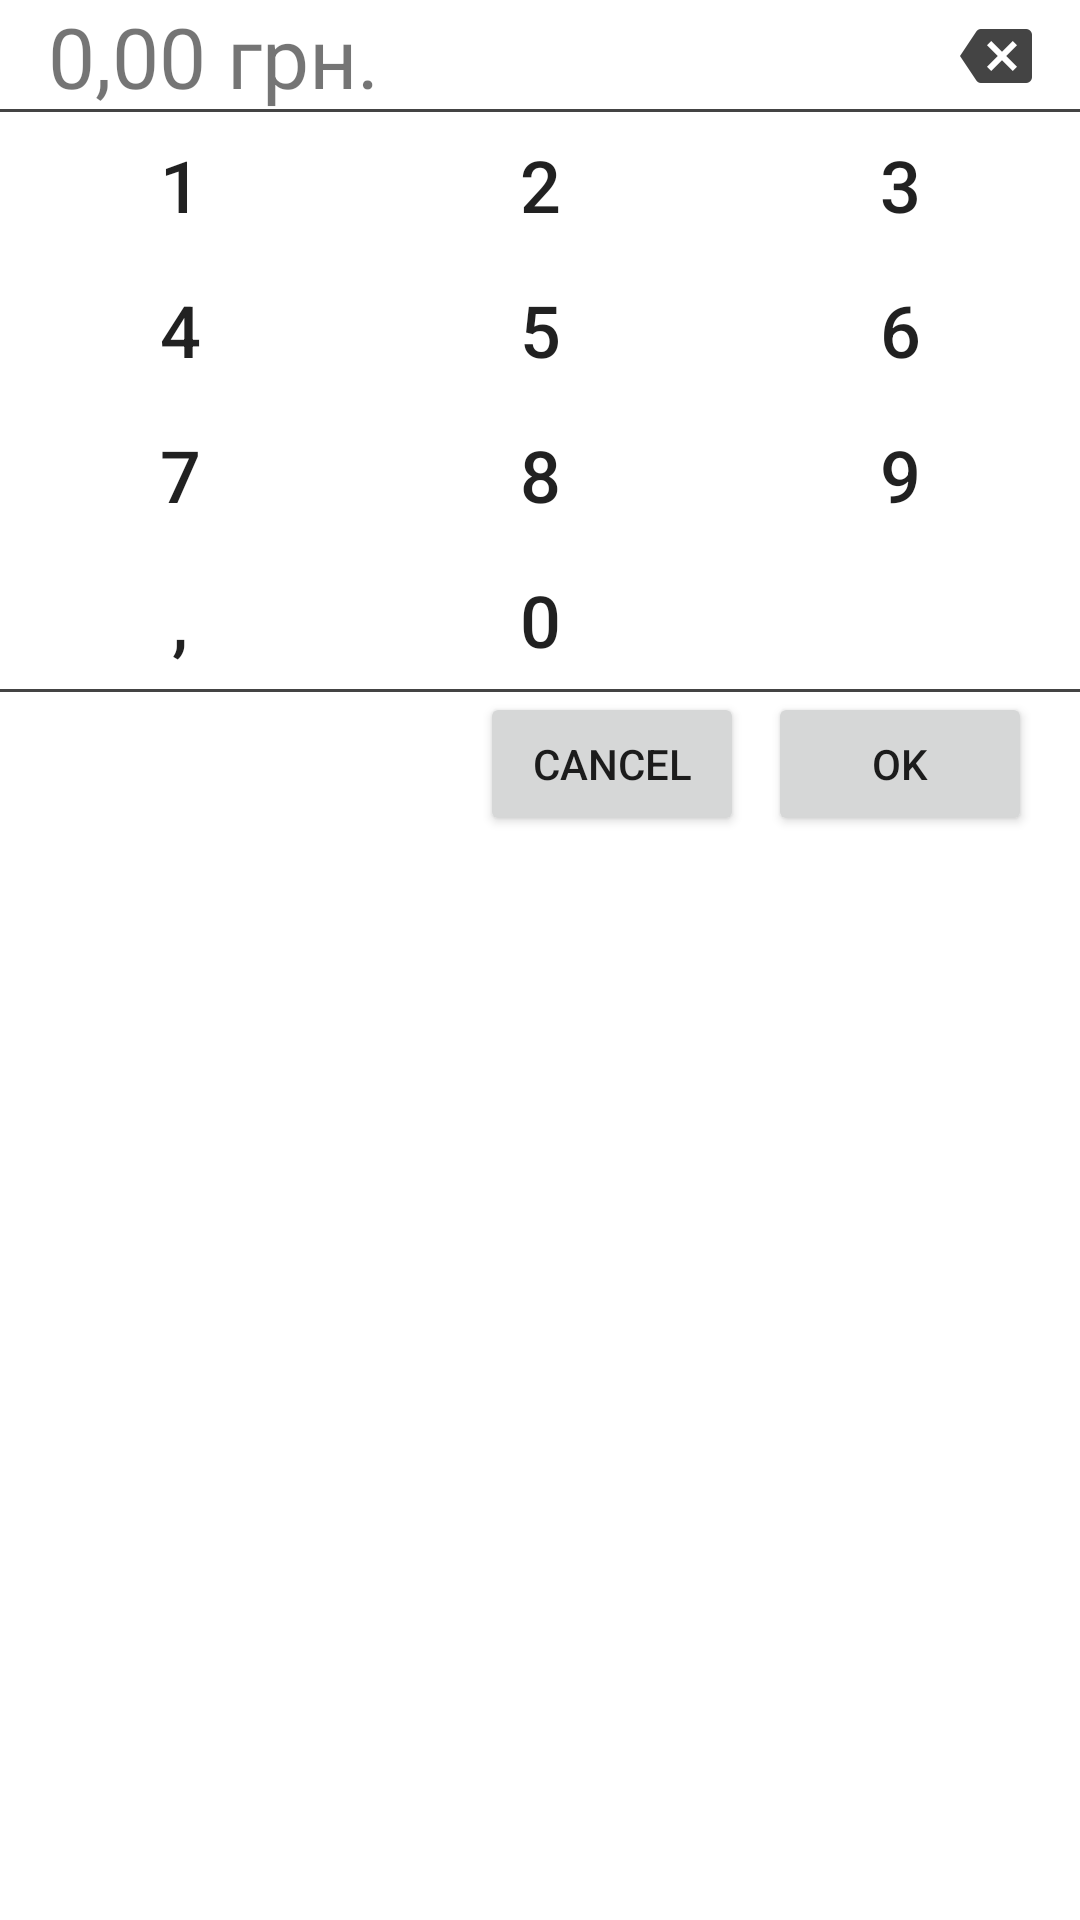

Named icons in this screenshot (1080 × 1920) and their centers, [x,y]:
content backspace: [996,56]
